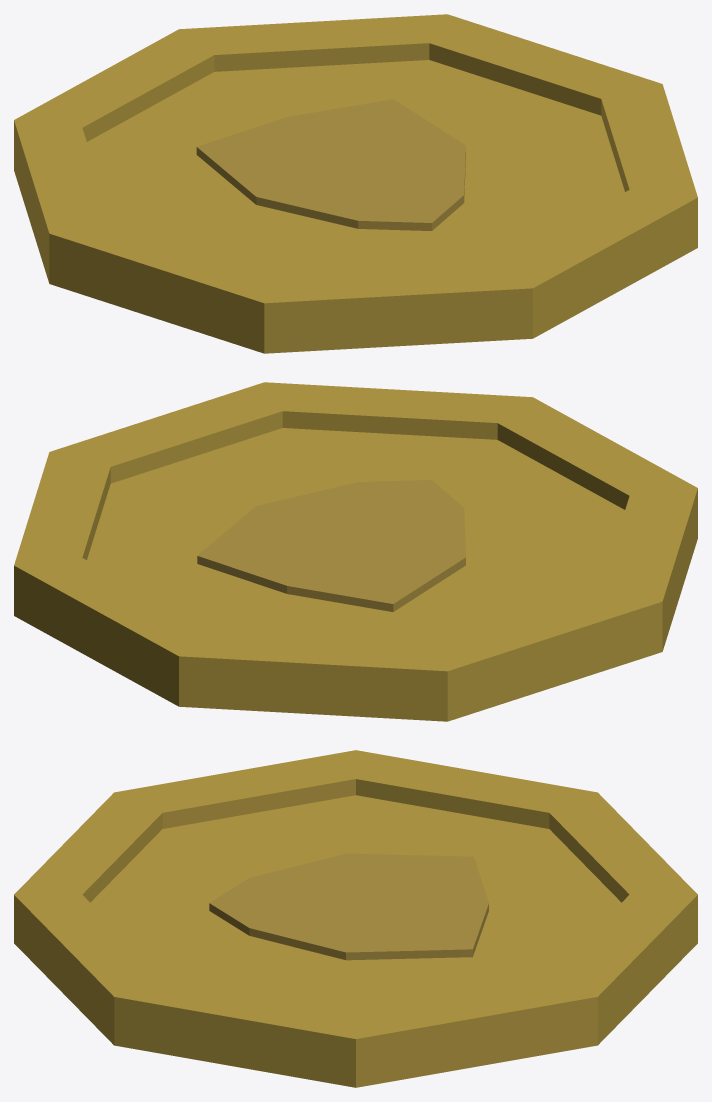
File: Coin.fbx
3 renders of one model, top to bottom at view 1: azimuth 30°, elevation 25°; view 2: azimuth 150°, elevation 25°; view 3: azimuth 270°, elevation 25°, orthographic. The views are drawn at different scales.
Parts seen in each view (by area): view 1: pCylinder1; view 2: pCylinder1; view 3: pCylinder1.
Part boxes in pixels (x1,y1,x2,y2): pCylinder1: [14, 14, 697, 353]; pCylinder1: [14, 382, 697, 721]; pCylinder1: [14, 750, 697, 1087].
Size of the model in its own units: 0.0121 by 0.000952 by 0.0121.
